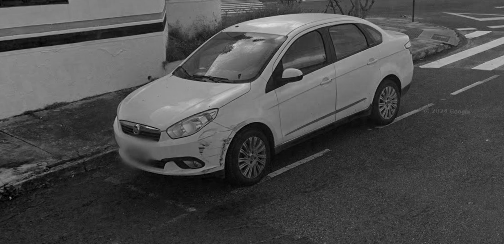car: (109, 10, 426, 189)
